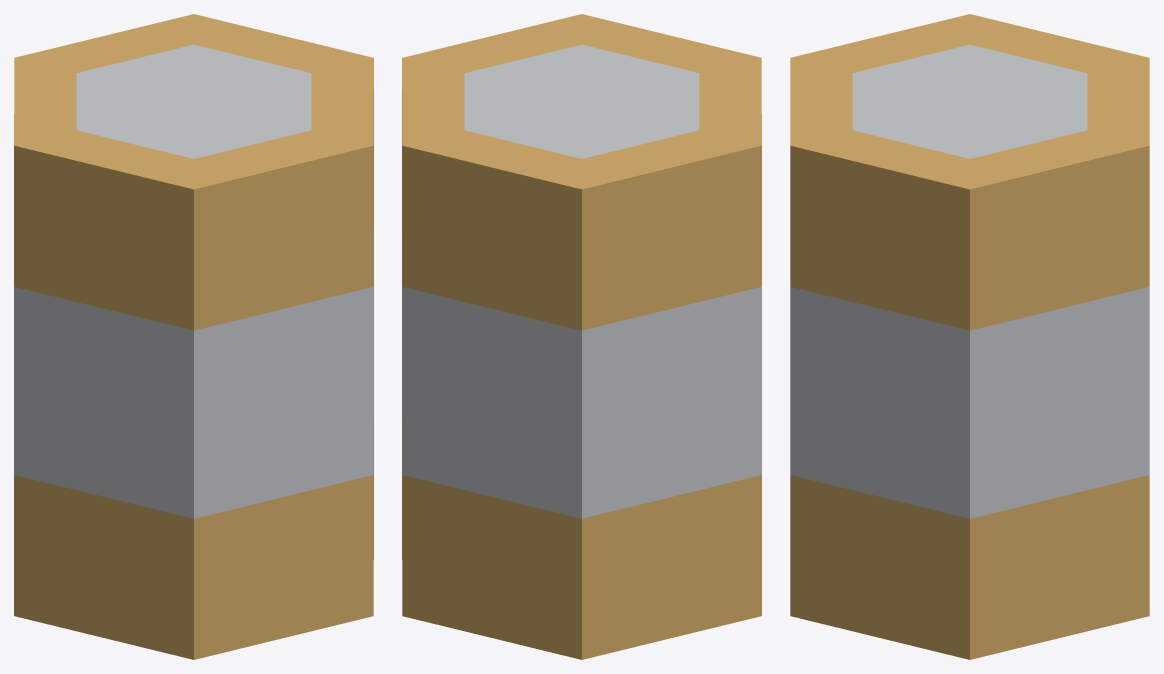
The model's file is barrel.lod.glb.
3 views of the same model, side by side, from view 1: azimuth 30°, elevation 25°; view 2: azimuth 150°, elevation 25°; view 3: azimuth 270°, elevation 25° (orthographic).
Visible parts, largest first — view 1: barrel; view 2: barrel; view 3: barrel.
Boxes of the visible parts, <box> form: barrel: <box>14,14,373,659</box>; barrel: <box>402,14,761,659</box>; barrel: <box>790,14,1149,659</box>.
Size of the model in its own units: 0.2 by 0.25 by 0.1732.
